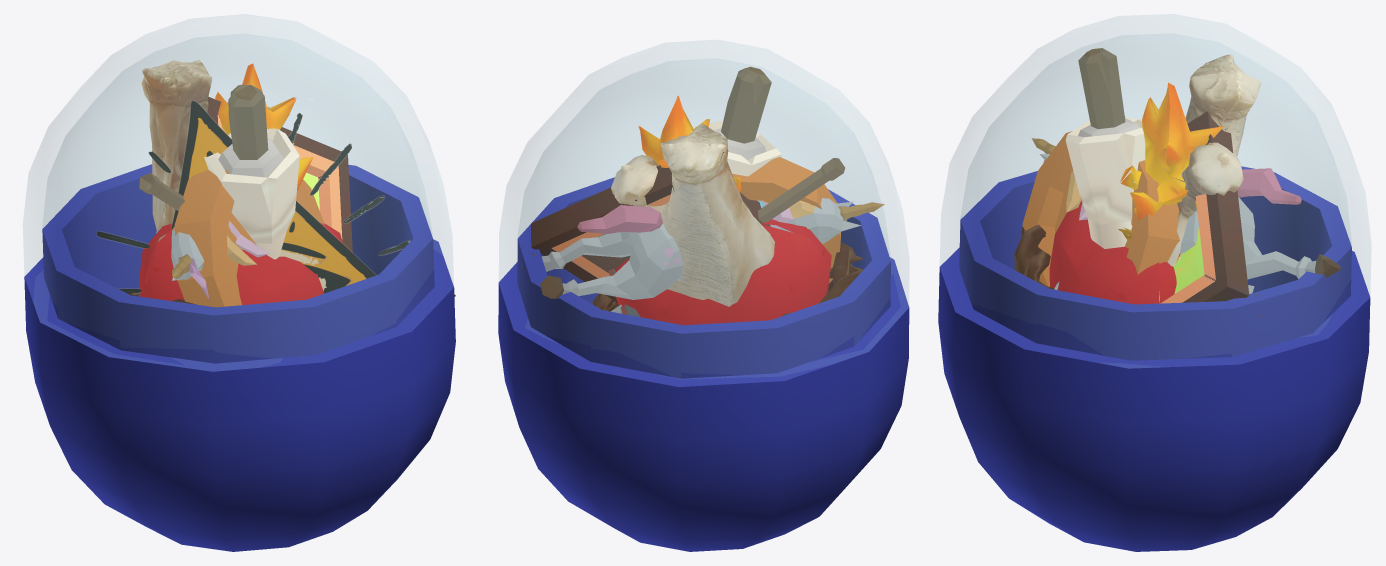
The model's file is scrollAndMaryToys.glb.
The picture shows the model from 3 angles, left to right: view 1: azimuth 30°, elevation 25°; view 2: azimuth 150°, elevation 25°; view 3: azimuth 270°, elevation 25°; orthographic projection. The views are drawn at different scales.
Parts seen in each view (by area): view 1: CapsuleGlassA, CapsuleBaseA, Scroll, TATTOO, BurningHeart, Coin, ToyMary, Painting, Unicorn; view 2: CapsuleGlassA, CapsuleBaseA, ToyMary, Unicorn, BurningHeart, Painting, Scroll, Coin; view 3: CapsuleGlassA, CapsuleBaseA, BurningHeart, Scroll, ToyMary, Painting, Coin, Unicorn.
Part boxes in pixels (box(x1,y1,x2,y2)): CapsuleGlassA: box(23, 14, 453, 370); CapsuleBaseA: box(24, 164, 455, 551); Scroll: box(204, 84, 299, 259); TATTOO: box(96, 100, 455, 297); BurningHeart: box(118, 63, 342, 304); Coin: box(174, 169, 324, 307); ToyMary: box(141, 60, 269, 241); Painting: box(185, 96, 352, 252); Unicorn: box(139, 102, 269, 299); CapsuleGlassA: box(499, 40, 908, 379); CapsuleBaseA: box(498, 177, 909, 551); ToyMary: box(611, 124, 774, 306); Unicorn: box(521, 158, 884, 316); BurningHeart: box(592, 95, 863, 325); Painting: box(531, 165, 834, 302); Scroll: box(695, 66, 781, 176); Coin: box(732, 157, 840, 283); CapsuleGlassA: box(940, 14, 1370, 367); CapsuleBaseA: box(938, 166, 1370, 551); BurningHeart: box(1014, 82, 1223, 304); Scroll: box(1065, 48, 1145, 248); ToyMary: box(1159, 54, 1260, 296); Painting: box(1159, 111, 1249, 303); Coin: box(1022, 131, 1179, 286); Unicorn: box(1031, 116, 1340, 316).
Bounding box in the file's own units: 0.3109 × 0.3848 × 0.3024.
9 materials, 7 textured.
